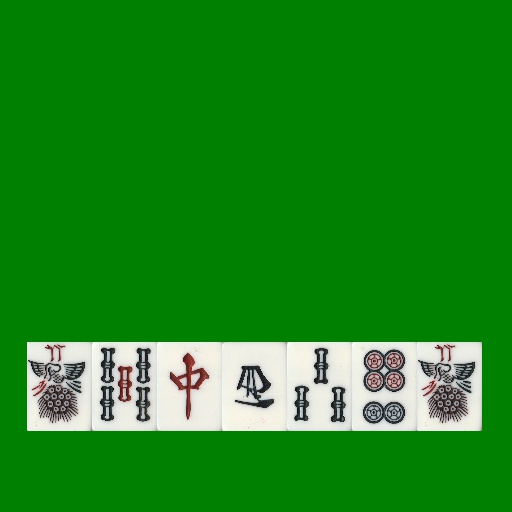1s: (27, 342, 92, 431), (417, 342, 482, 431)
3s: (287, 342, 352, 431)
5s: (92, 342, 157, 431)
6p: (352, 342, 417, 431)
tyun: (157, 342, 222, 431)
west: (222, 342, 287, 431)
